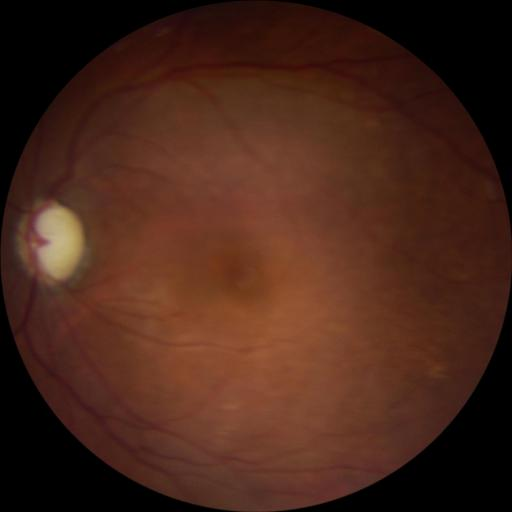Optic Disc: (13, 198, 85, 284)
